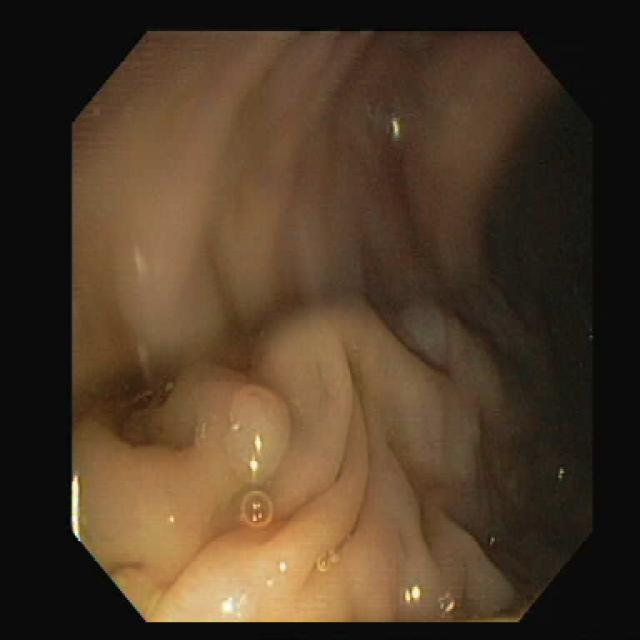tumor: (215, 373, 290, 496)
